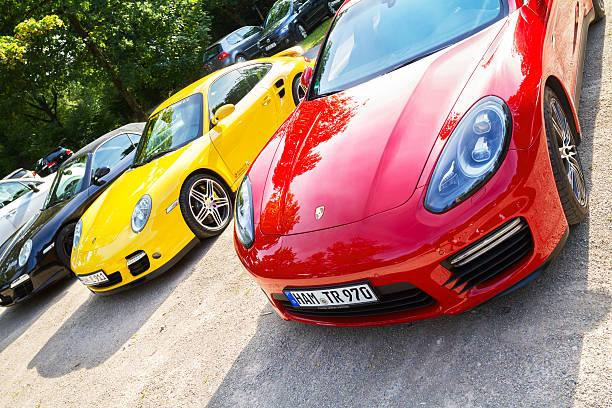porsche: (305, 203, 332, 222)
